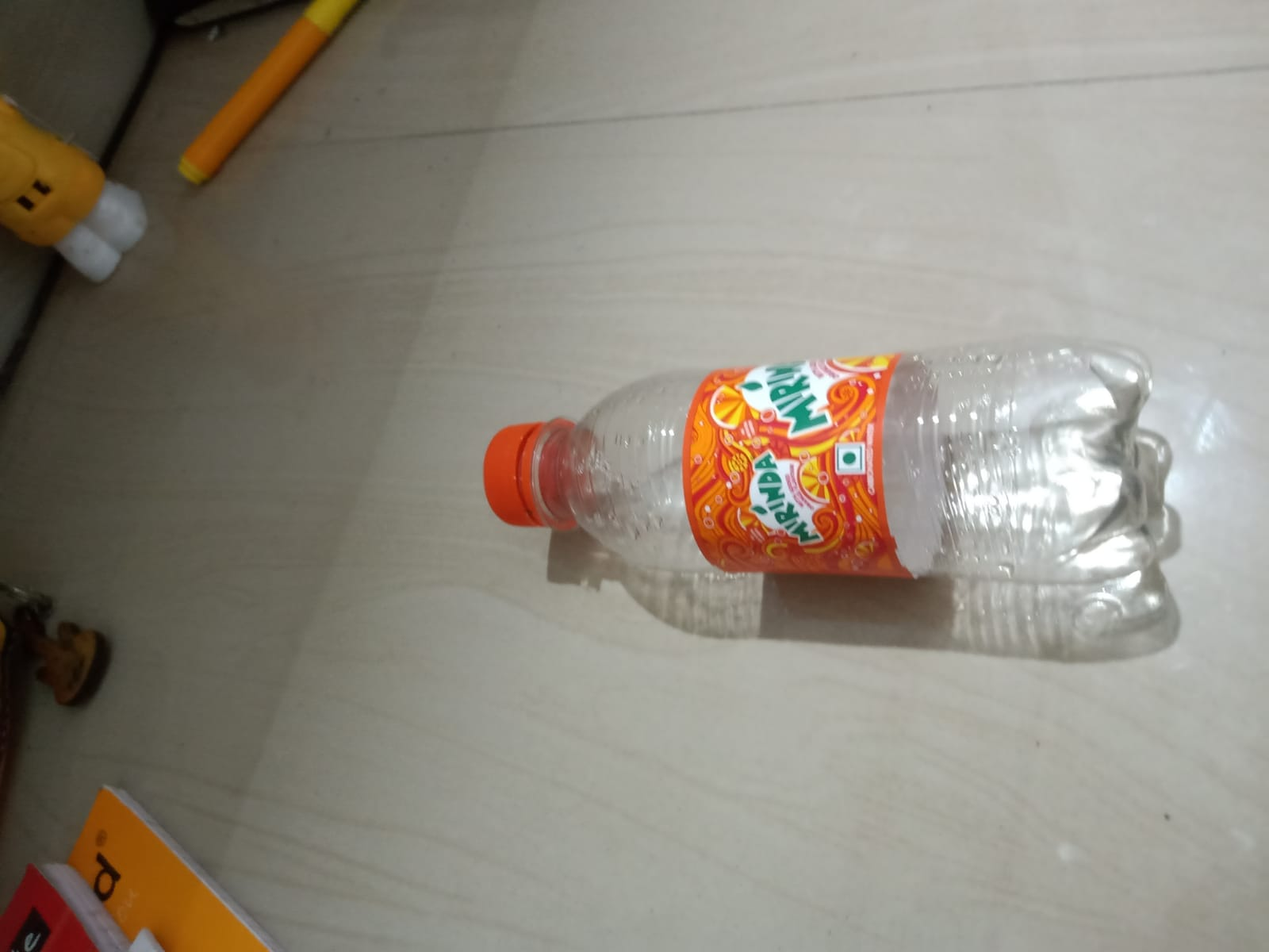plastic: (415, 304, 1269, 629)
